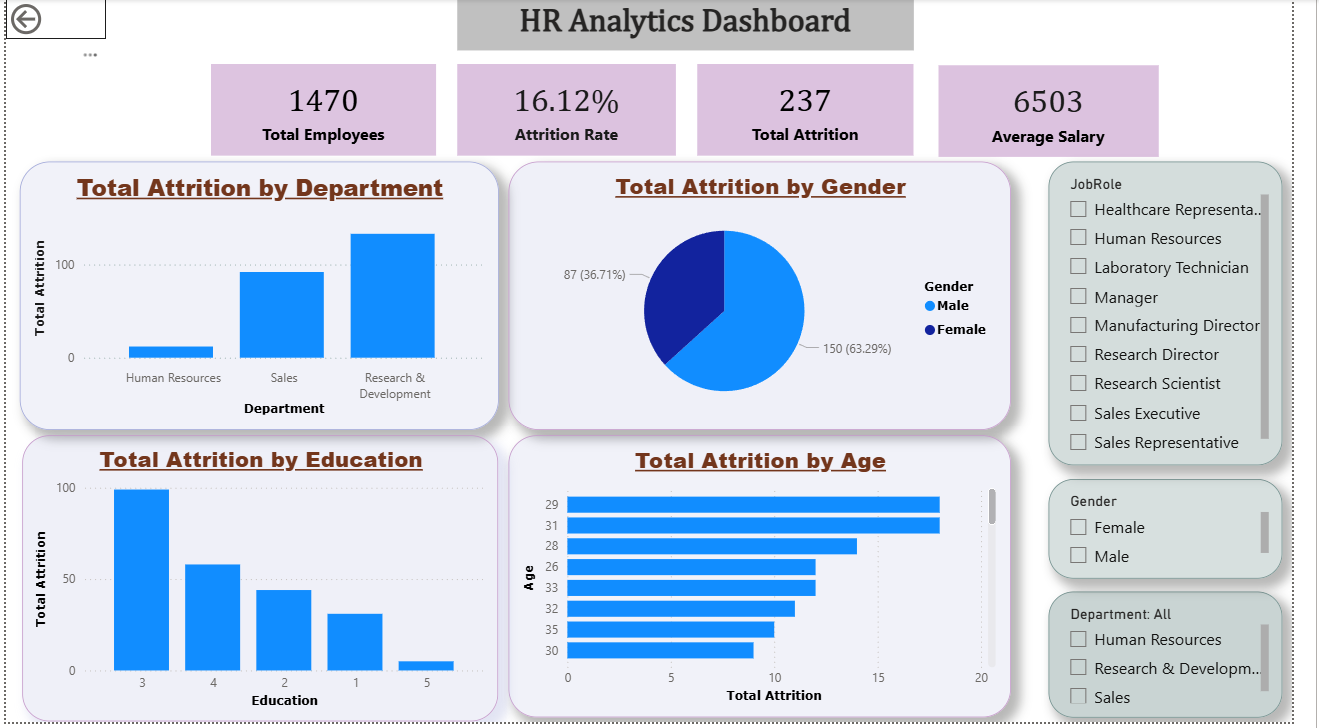

This screenshot's page, from the dashboard's own definition file:
{"tool":"powerbi","page":{"name":"HR Overview","canvas":[1280,720],"ordinal":0},"visuals":[{"type":"clusteredColumnChart","fields":{"Y":["HR-Employee-Attrition.Total Attrition"],"Category":["HR-Employee-Attrition.Department"]},"box":[13.7,161.7,476.4,267.5],"z":0},{"type":"pieChart","fields":{"Category":["HR-Employee-Attrition.Gender"],"Y":["HR-Employee-Attrition.Total Attrition"]},"box":[500.1,161.7,500.1,267.5],"z":1000},{"type":"card","fields":{"Values":["HR-Employee-Attrition.Total Employees"]},"box":[204,64.7,223.9,90.8],"z":2000},{"type":"card","fields":{"Values":["HR-Employee-Attrition.Attrition Rate"]},"box":[449.1,64.7,217.7,90.8],"z":3000},{"type":"card","fields":{"Values":["HR-Employee-Attrition.Average Salary"]},"box":[928,65.9,218.9,90.8],"z":4000},{"type":"card","fields":{"Values":["HR-Employee-Attrition.Total Attrition"]},"box":[687.9,64.7,215.2,90.8],"z":5000},{"type":"barChart","fields":{"Category":["HR-Employee-Attrition.Age"],"Y":["HR-Employee-Attrition.Total Attrition"]},"box":[500.1,434.1,500.1,281.1],"z":6000},{"type":"clusteredColumnChart","fields":{"Y":["HR-Employee-Attrition.Total Attrition"],"Category":["HR-Employee-Attrition.Education"]},"box":[16.2,434.1,473.9,284.9],"z":7000},{"type":"slicer","fields":{"Values":["HR-Employee-Attrition.Department"]},"box":[1037.5,589.6,232.6,125.6],"z":8000},{"type":"slicer","fields":{"Values":["HR-Employee-Attrition.Gender"]},"box":[1037.5,477.7,232.6,99.5],"z":9000},{"type":"slicer","fields":{"Values":["HR-Employee-Attrition.JobRole"]},"box":[1037.5,161.7,232.6,302.3],"z":10000},{"type":"textbox","box":[449.1,0,454,51],"z":11000},{"type":"actionButton","box":[0,0,100,40],"z":12000}]}

Visuals, with their boxes in screenshot pixels (x1, y1, x2, y2), scaled from the page's 1280x720 canvas onto the 1319x728 screenshot:
clusteredColumnChart - HR-Employee-Attrition.Total Attrition x HR-Employee-Attrition.Department: left=14, top=163, right=505, bottom=434
pieChart - HR-Employee-Attrition.Gender x HR-Employee-Attrition.Total Attrition: left=515, top=163, right=1031, bottom=434
card - HR-Employee-Attrition.Total Employees: left=210, top=65, right=441, bottom=157
card - HR-Employee-Attrition.Attrition Rate: left=463, top=65, right=687, bottom=157
card - HR-Employee-Attrition.Average Salary: left=956, top=67, right=1182, bottom=158
card - HR-Employee-Attrition.Total Attrition: left=709, top=65, right=931, bottom=157
barChart - HR-Employee-Attrition.Age x HR-Employee-Attrition.Total Attrition: left=515, top=439, right=1031, bottom=723
clusteredColumnChart - HR-Employee-Attrition.Total Attrition x HR-Employee-Attrition.Education: left=17, top=439, right=505, bottom=727
slicer - HR-Employee-Attrition.Department: left=1069, top=596, right=1309, bottom=723
slicer - HR-Employee-Attrition.Gender: left=1069, top=483, right=1309, bottom=584
slicer - HR-Employee-Attrition.JobRole: left=1069, top=163, right=1309, bottom=469
textbox: left=463, top=0, right=931, bottom=52
actionButton: left=0, top=0, right=103, bottom=40
